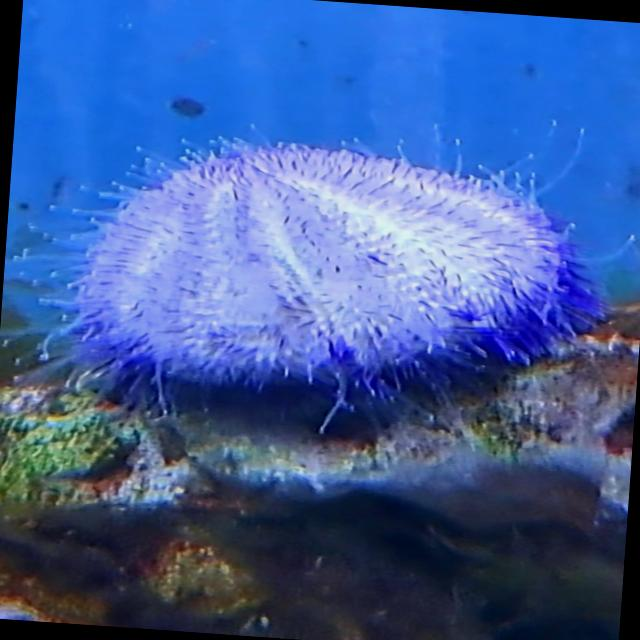Deniz Kestanesi: (28, 108, 630, 444)
